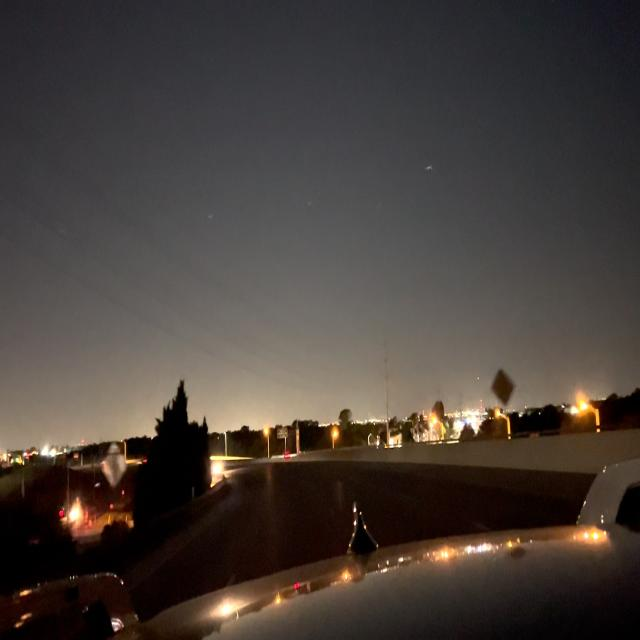back-of-sign: (102, 445, 127, 489)
